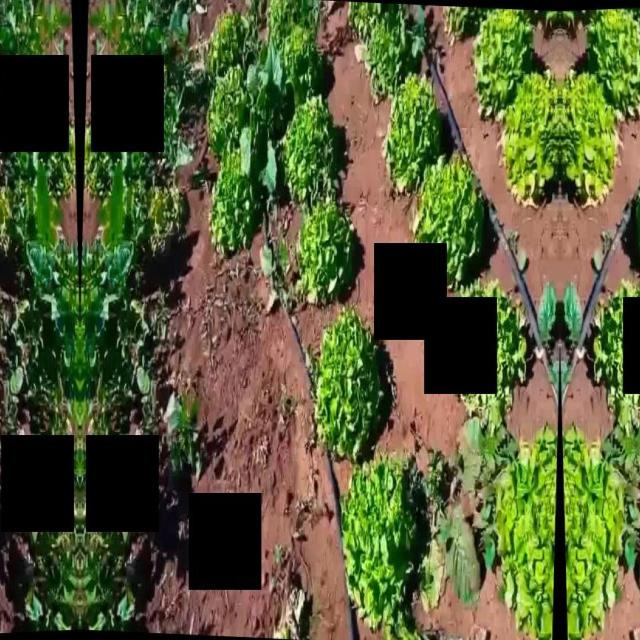healthy: (494, 424, 560, 640), (560, 424, 626, 640), (338, 463, 420, 624), (312, 308, 386, 464), (455, 284, 529, 424), (410, 158, 484, 288), (498, 72, 560, 204), (560, 72, 622, 204), (591, 284, 640, 424), (471, 3, 531, 116), (205, 144, 261, 258), (280, 91, 336, 203), (386, 66, 436, 190), (300, 201, 356, 309), (589, 3, 640, 116), (365, 11, 421, 87), (205, 65, 249, 152), (269, 28, 325, 86), (204, 6, 253, 72), (263, 0, 313, 38), (635, 158, 640, 288)
